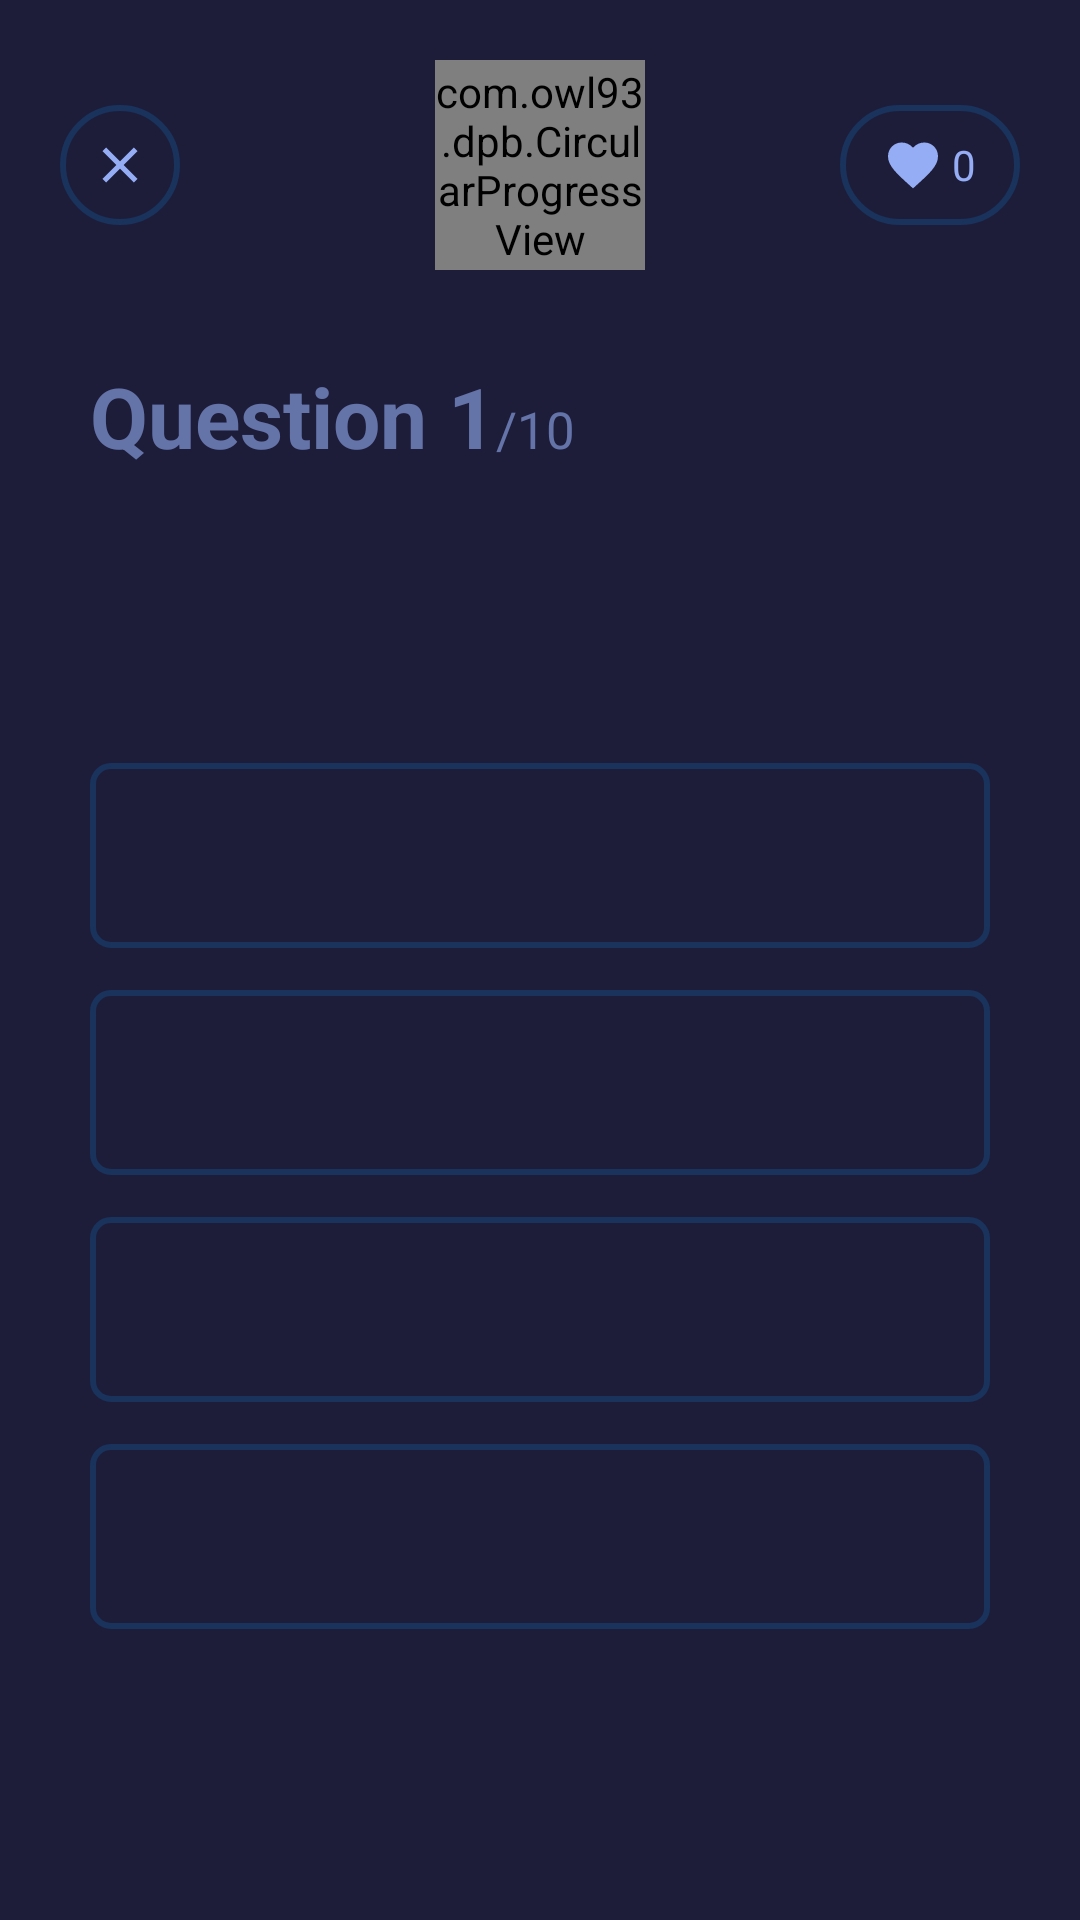

Icon bounding boxes for this 1080 x 1920 phone screenshot, format (x1, y1, x2, y2):
close: (60, 105, 180, 225)
favorite: (888, 142, 938, 188)
